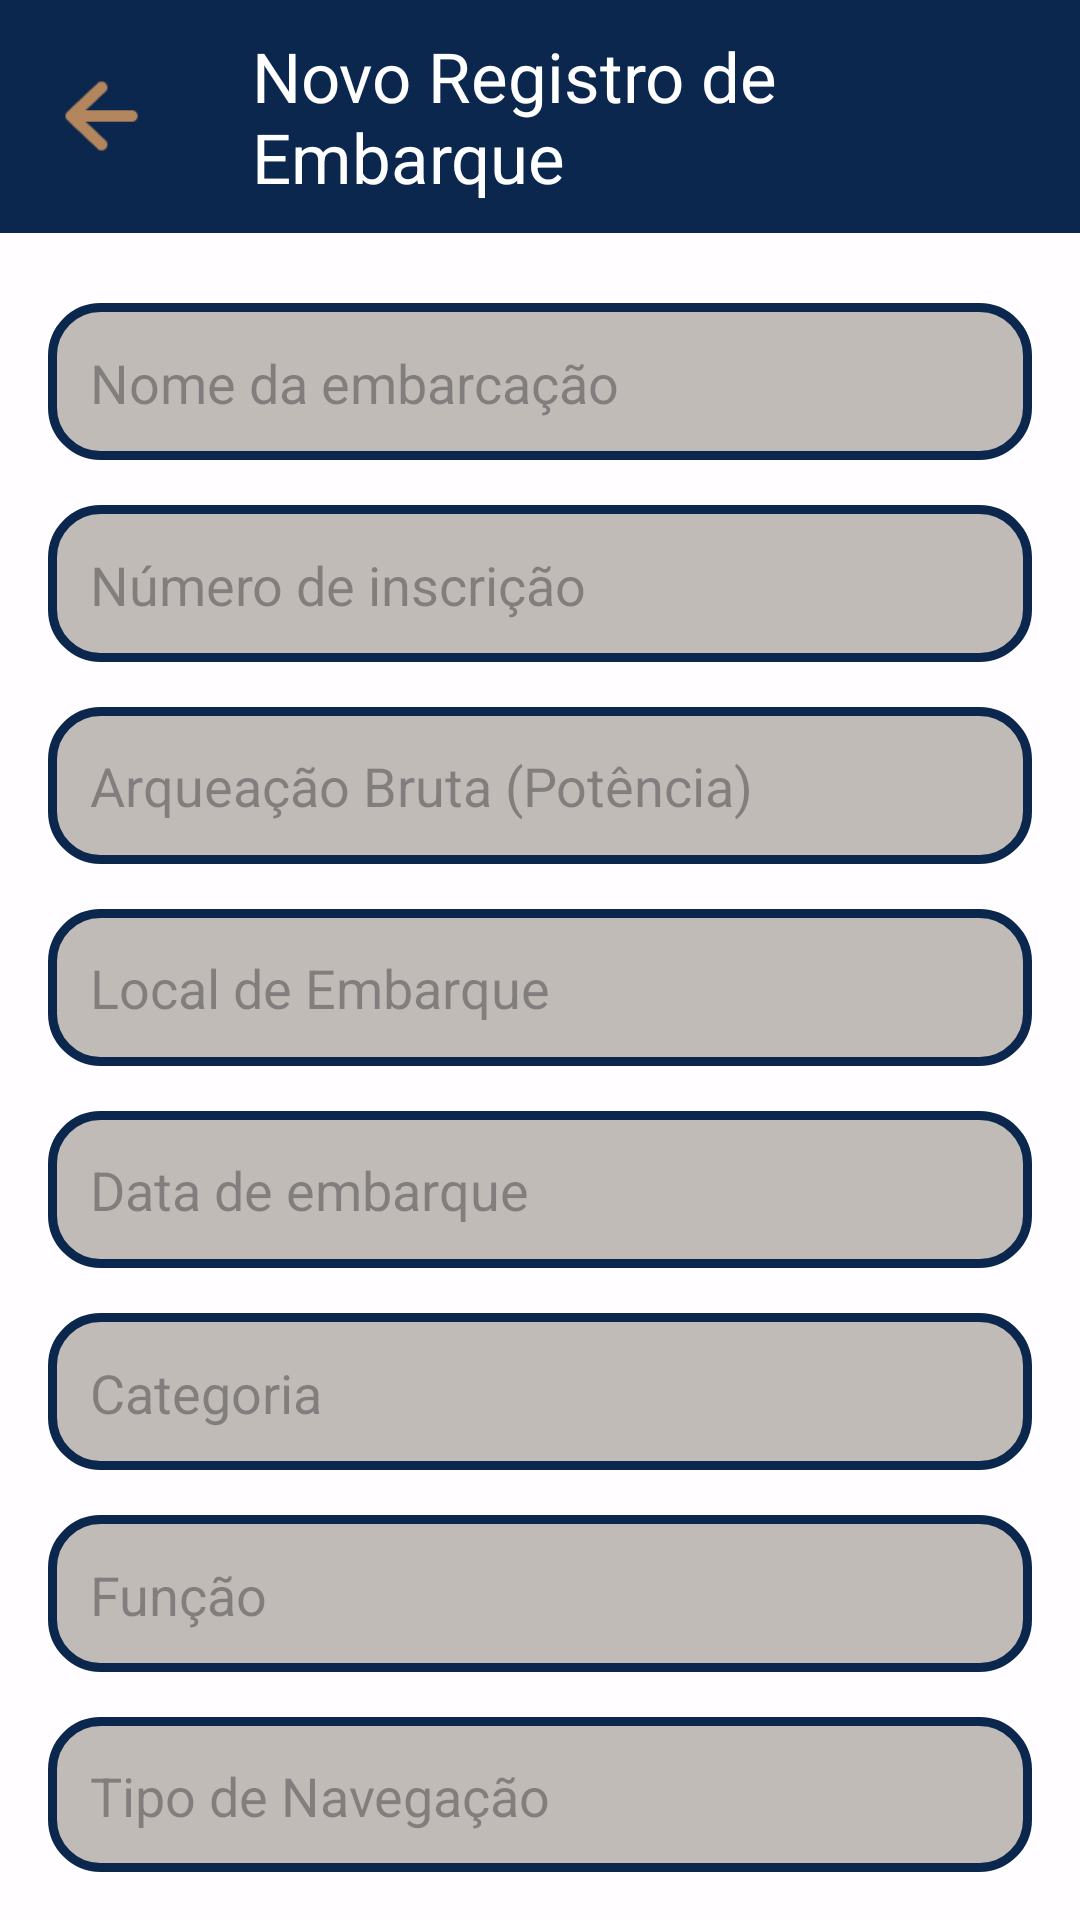

Screen size 1080px×1920px. Icon name, then its center in pixels as point (x, y):
Voltar: point (101, 116)
